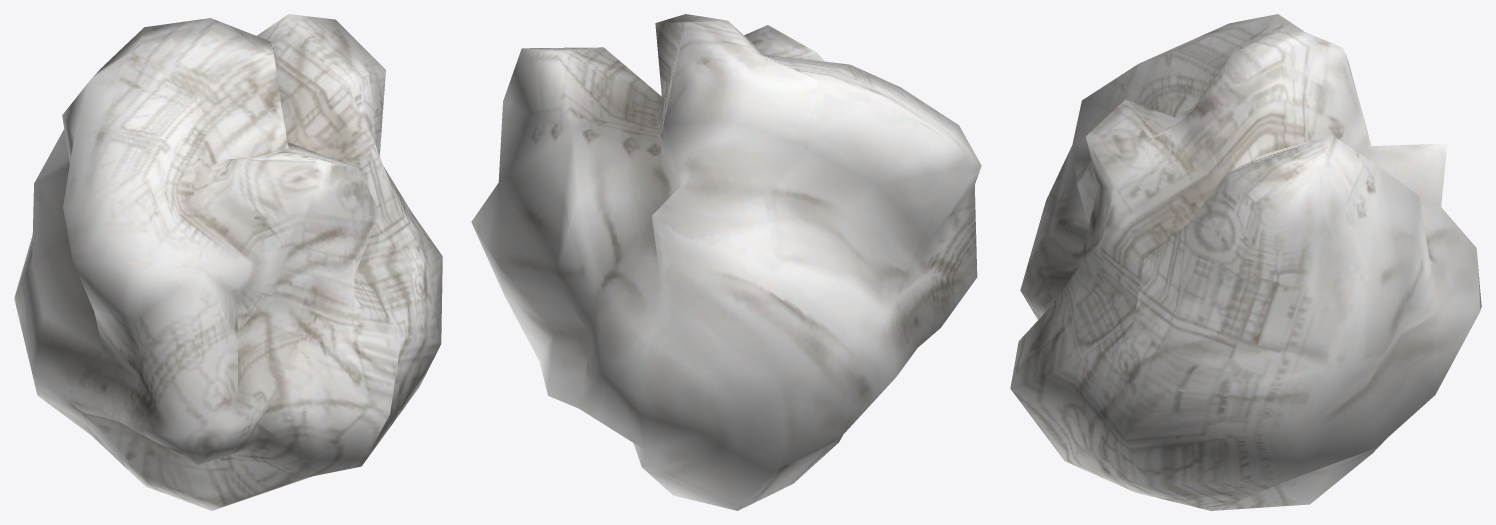
File: desk_paper_crumbled.dae
3 views of the same model, side by side, from view 1: azimuth 30°, elevation 25°; view 2: azimuth 150°, elevation 25°; view 3: azimuth 270°, elevation 25° (orthographic). The views are drawn at different scales.
Visible parts, largest first — view 1: desk_paper_crumbled1; view 2: desk_paper_crumbled1; view 3: desk_paper_crumbled1.
Boxes of the visible parts, x1=… form: desk_paper_crumbled1: x1=14, y1=14, x2=442, y2=510; desk_paper_crumbled1: x1=471, y1=14, x2=981, y2=510; desk_paper_crumbled1: x1=1010, y1=14, x2=1481, y2=510.
Bounding box in the file's own units: 9.07 × 10 × 9.01.
